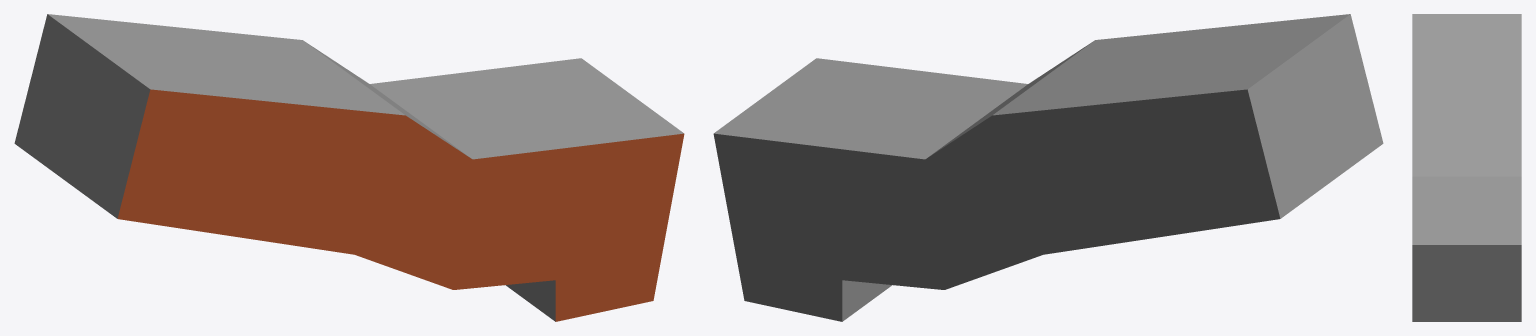
File: construction_0178_assumed_A_Casa_h6m.obj
The picture shows the model from 3 angles, left to right: view 1: azimuth 30°, elevation 25°; view 2: azimuth 150°, elevation 25°; view 3: azimuth 270°, elevation 25°; orthographic projection. The views are drawn at different scales.
Visible parts, largest first — view 1: construction_0178_assumed_A_Casa; view 2: construction_0178_assumed_A_Casa; view 3: construction_0178_assumed_A_Casa.
Boxes of the visible parts, x1,y1,x2,y2 form: construction_0178_assumed_A_Casa: (14,14,684,321); construction_0178_assumed_A_Casa: (713,14,1383,321); construction_0178_assumed_A_Casa: (1412,14,1521,321).
Bounding box in the file's own units: 19.06 × 10.74 × 6.
